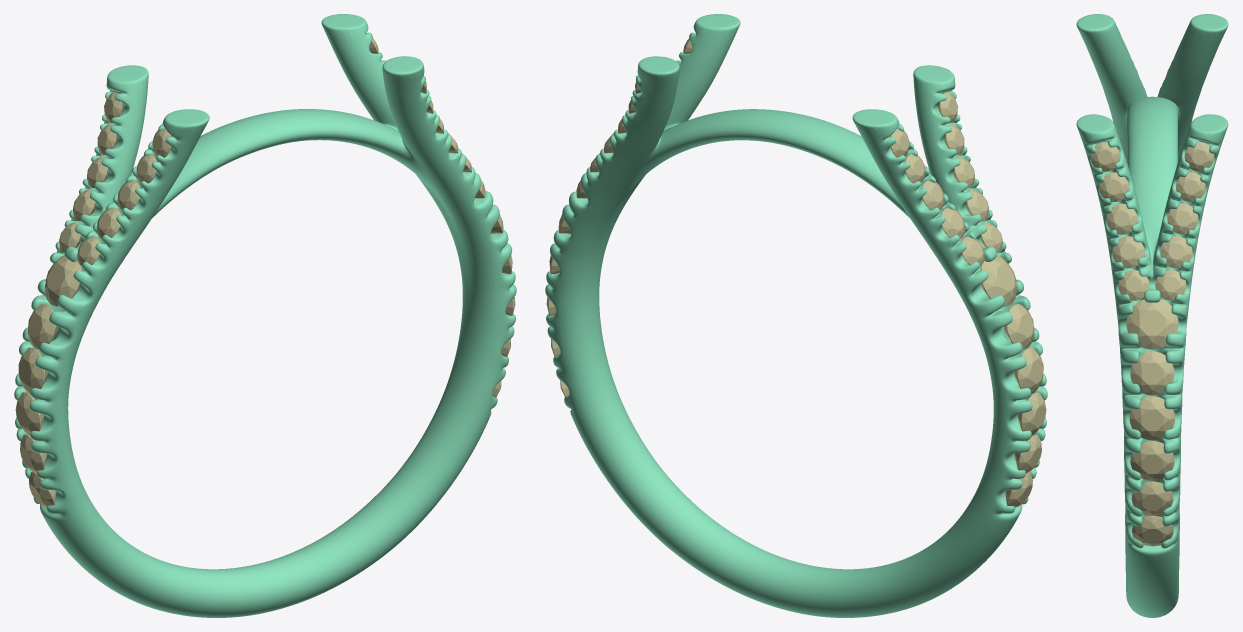
3 views of the same model, side by side, from view 1: azimuth 30°, elevation 25°; view 2: azimuth 150°, elevation 25°; view 3: azimuth 270°, elevation 25° (orthographic). The views are drawn at different scales.
Parts seen in each view (by area): view 1: Metal02, Diamond_Gem.014, Diamond_Gem.013, Diamond_Gem.012, Diamond_Gem.011; view 2: Metal02, Diamond_Gem.014, Diamond_Gem.013, Diamond_Gem.012, Diamond_Gem.011; view 3: Metal02, Diamond_Gem.017, Diamond_Gem.018, Diamond_Gem.019, Diamond_Gem.020, Diamond_Gem.021, Diamond_Gem.022, Diamond_Gem.030, Diamond_Gem.023, Diamond_Gem.026, Diamond_Gem.027, Diamond_Gem.031 (+5 smaller).
Boxes of the visible parts, x1,y1,x2,y2 form: Metal02: [14, 14, 516, 617]; Diamond_Gem.014: [45, 255, 81, 306]; Diamond_Gem.013: [27, 304, 58, 349]; Diamond_Gem.012: [18, 347, 47, 393]; Diamond_Gem.011: [15, 392, 44, 435]; Metal02: [545, 14, 1047, 617]; Diamond_Gem.014: [980, 255, 1016, 306]; Diamond_Gem.013: [1003, 304, 1034, 349]; Diamond_Gem.012: [1014, 347, 1043, 393]; Diamond_Gem.011: [1018, 392, 1046, 435]; Metal02: [1076, 14, 1228, 617]; Diamond_Gem.017: [1126, 299, 1178, 349]; Diamond_Gem.018: [1130, 351, 1174, 395]; Diamond_Gem.019: [1129, 396, 1174, 440]; Diamond_Gem.020: [1130, 441, 1174, 480]; Diamond_Gem.021: [1131, 481, 1173, 515]; Diamond_Gem.022: [1132, 516, 1173, 546]; Diamond_Gem.030: [1112, 236, 1144, 268]; Diamond_Gem.023: [1160, 236, 1192, 268]; Diamond_Gem.026: [1167, 203, 1198, 234]; Diamond_Gem.027: [1106, 203, 1137, 234]; Diamond_Gem.031: [1118, 270, 1149, 300].
Bounding box in the file's own units: 20.89 × 22.13 × 5.86.
